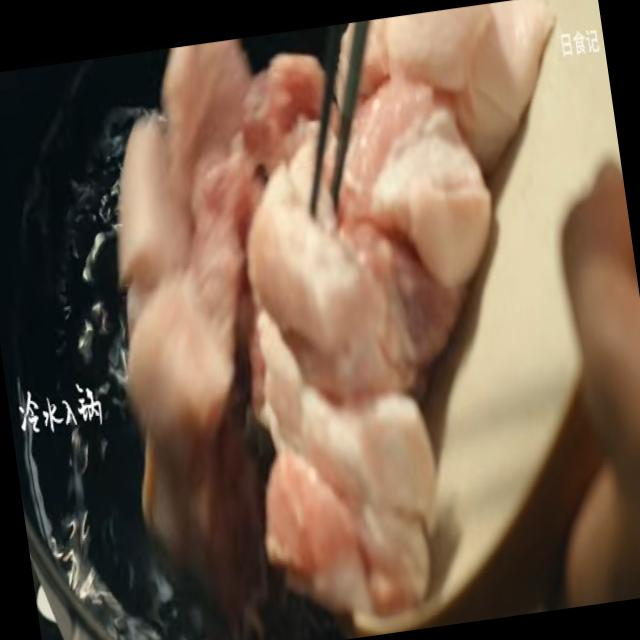pork: (94, 2, 522, 640)
